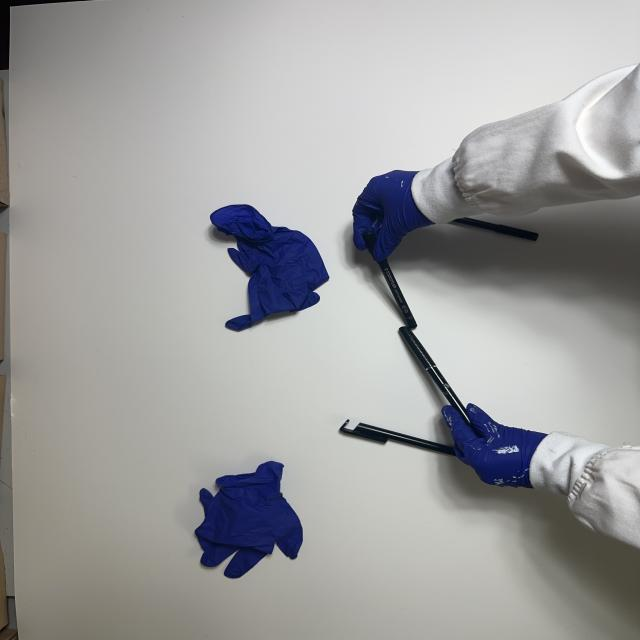gloves_contaminated: (442, 403, 548, 488), (353, 171, 435, 262)
